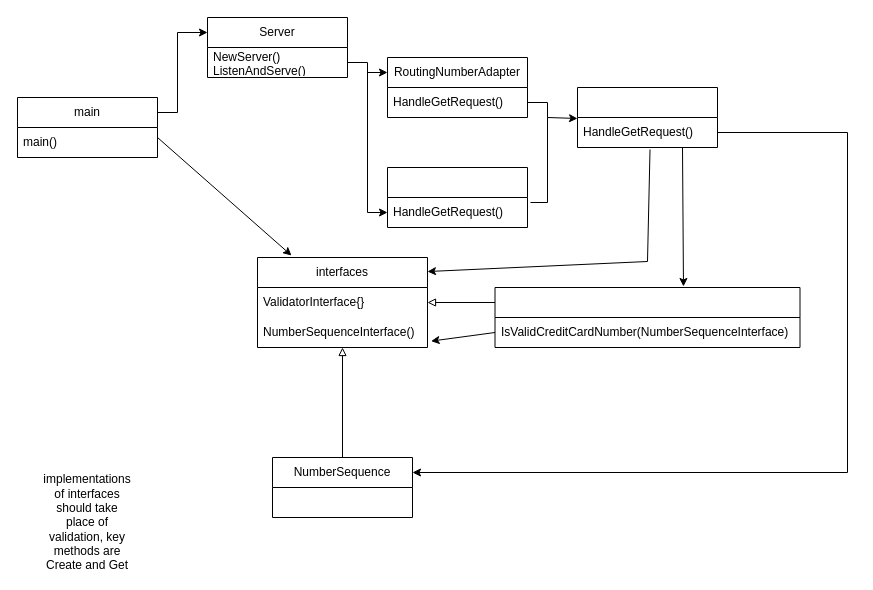
This 873x590 diagram has some shape labels left out. The box of each missing label's shape, as (x1, y1, x2, y2) in pixels:
CreditCardAdapter: (386, 166, 528, 228)
handler: (576, 86, 718, 148)
service: (494, 286, 800, 348)
